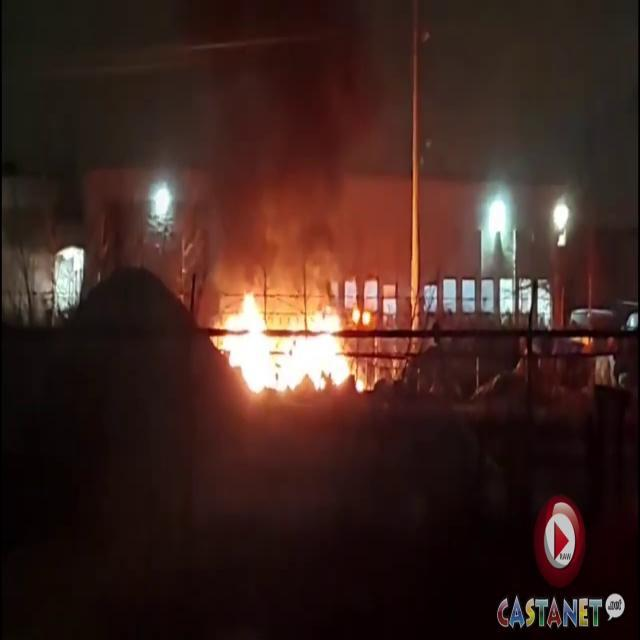Fire: (210, 282, 370, 405)
Smoke: (146, 45, 438, 288)
